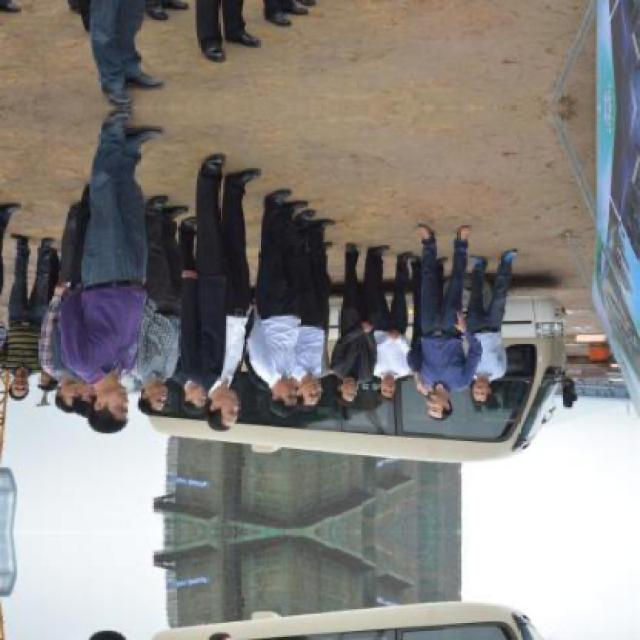sin casco: (72, 362, 149, 456), (195, 374, 246, 441), (404, 374, 458, 435), (455, 355, 513, 406), (124, 376, 167, 420), (262, 374, 304, 414), (354, 369, 392, 408), (283, 380, 313, 422), (339, 370, 363, 410)
